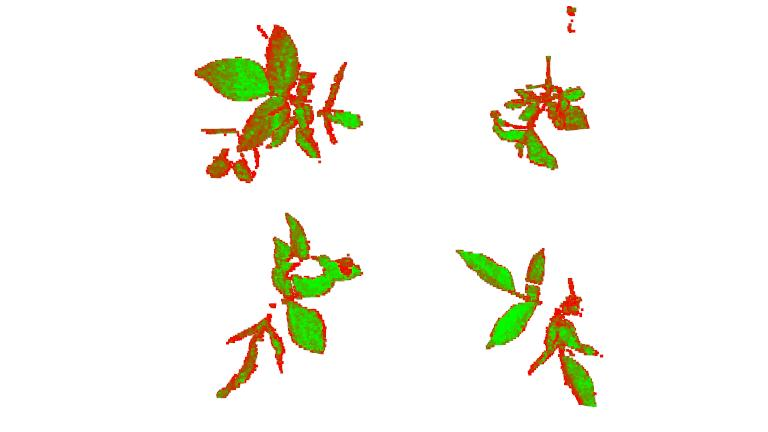mungbean: (193, 18, 366, 183), (219, 211, 364, 404), (449, 240, 610, 412), (486, 52, 594, 172)
